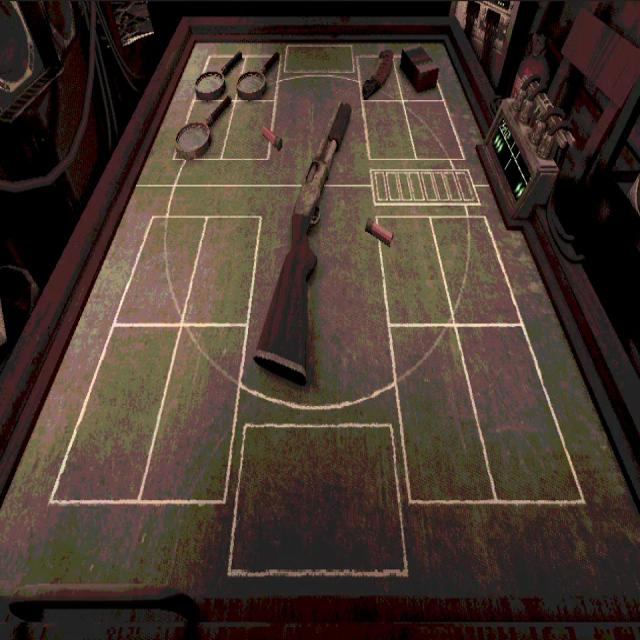ally: (0, 181, 635, 632)
cigar: (400, 43, 439, 93)
doubledamage: (363, 49, 393, 99)
emptyspace: (49, 326, 178, 502), (461, 324, 581, 505), (142, 325, 247, 501), (393, 324, 497, 497), (114, 216, 205, 327), (432, 215, 522, 325), (377, 217, 457, 327), (184, 217, 259, 322), (404, 99, 464, 160), (221, 100, 275, 160), (366, 100, 416, 161)
enemyspace: (138, 40, 490, 179)
gun: (273, 102, 349, 387)
lens: (175, 95, 231, 159), (236, 51, 279, 99), (193, 53, 241, 93)
